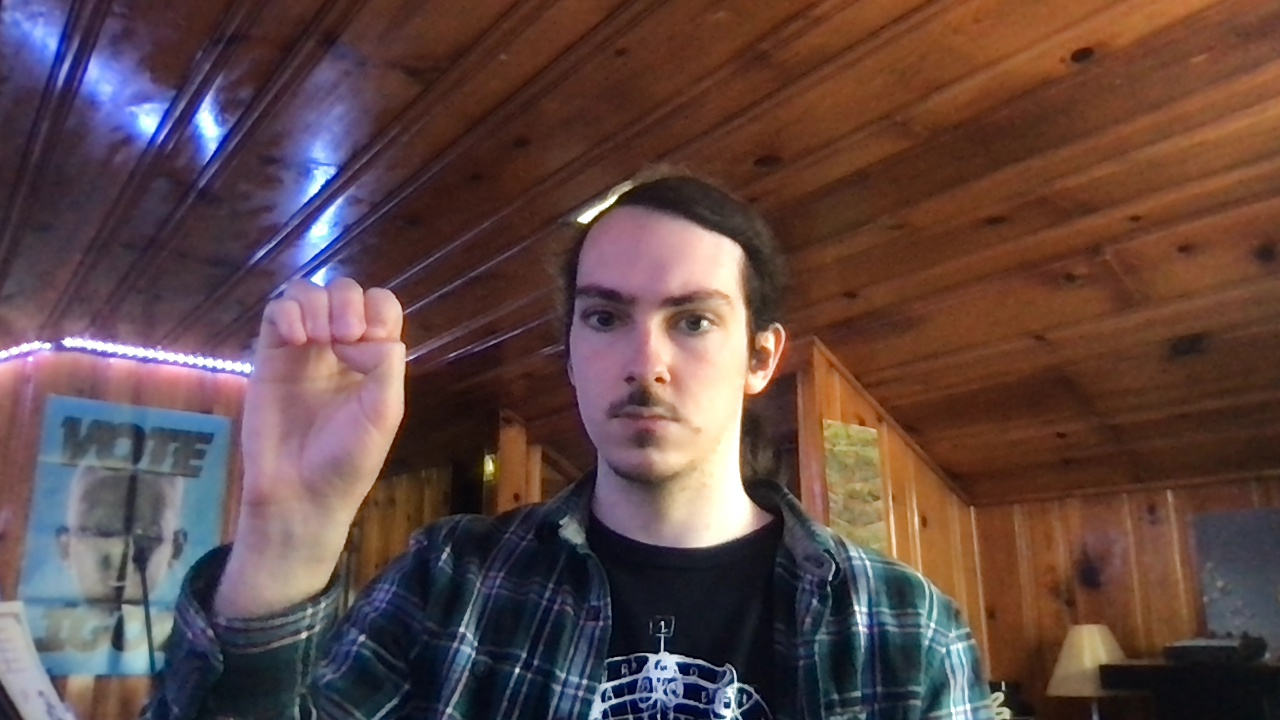e: (239, 273, 408, 506)
